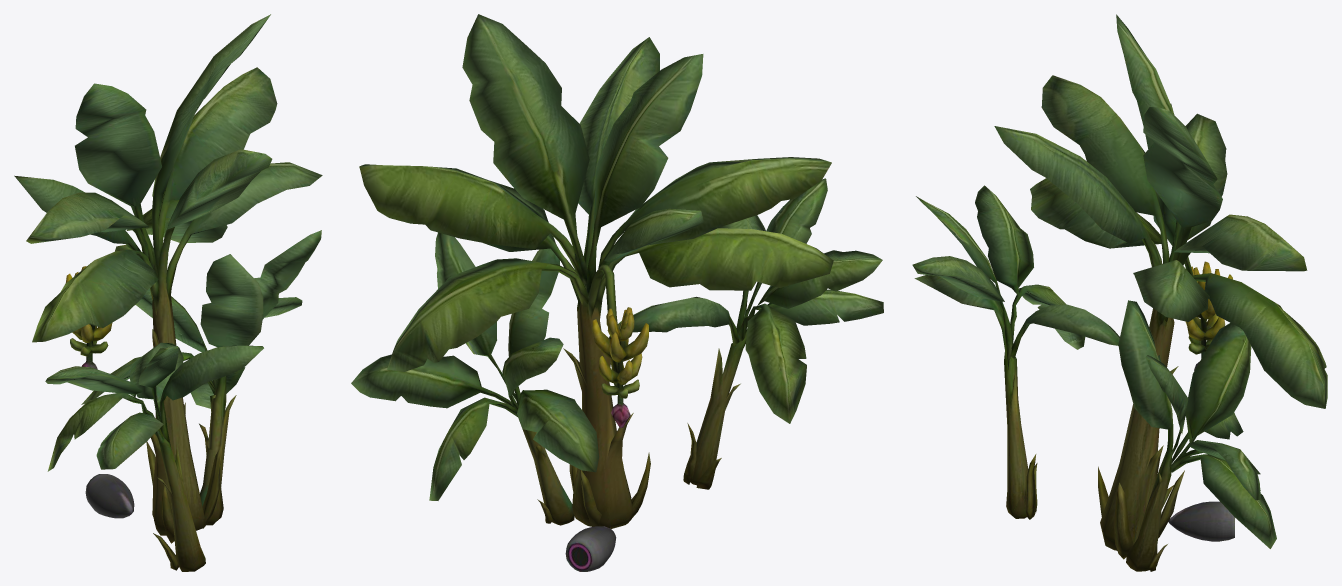
File: banana_clump.glb
The picture shows the model from 3 angles, left to right: view 1: azimuth 30°, elevation 25°; view 2: azimuth 150°, elevation 25°; view 3: azimuth 270°, elevation 25°; orthographic projection. The views are drawn at different scales.
Visible parts, largest first — view 1: Body; view 2: Body; view 3: Body.
Boxes of the visible parts, x1,y1,x2,y2 form: Body: (14,14,322,571); Body: (351,14,883,571); Body: (912,14,1327,571).
Bounding box in the file's own units: 4.16 × 5 × 3.77.
Materials: 1 (1 with a texture image).
